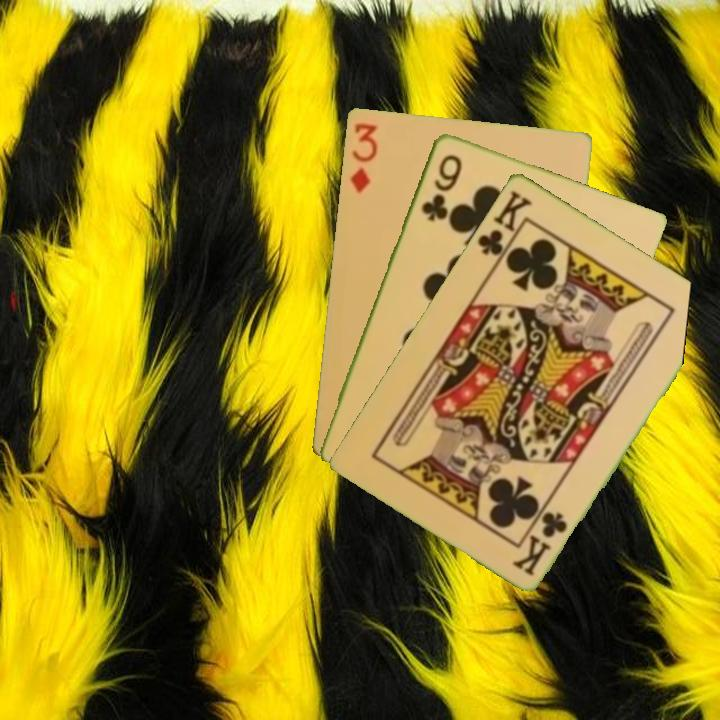3d: (346, 119, 380, 196)
9c: (417, 150, 465, 223)
Kc: (473, 186, 536, 267), (510, 507, 571, 579)
